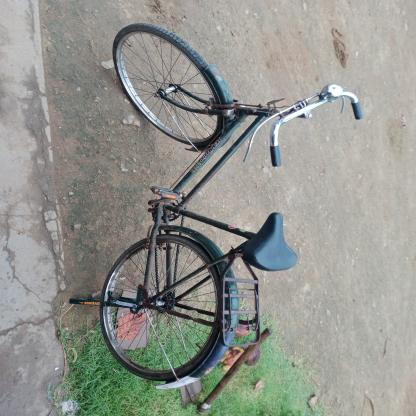bike: (85, 6, 375, 402)
